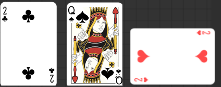2C: (47, 66, 55, 84)
2H: (133, 76, 149, 83), (195, 29, 211, 36)
